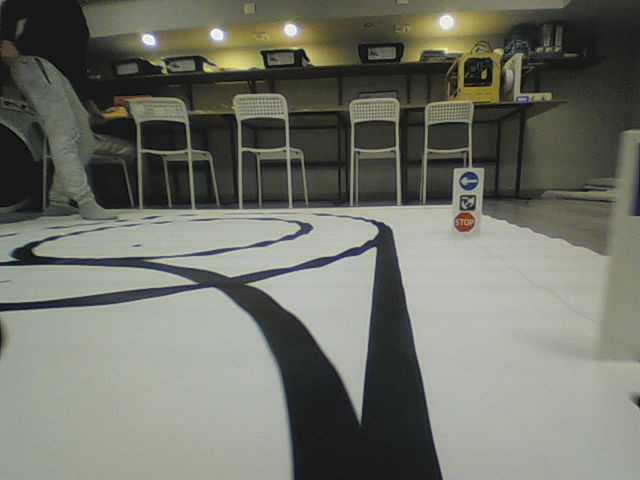Stop: (453, 211, 475, 233)
